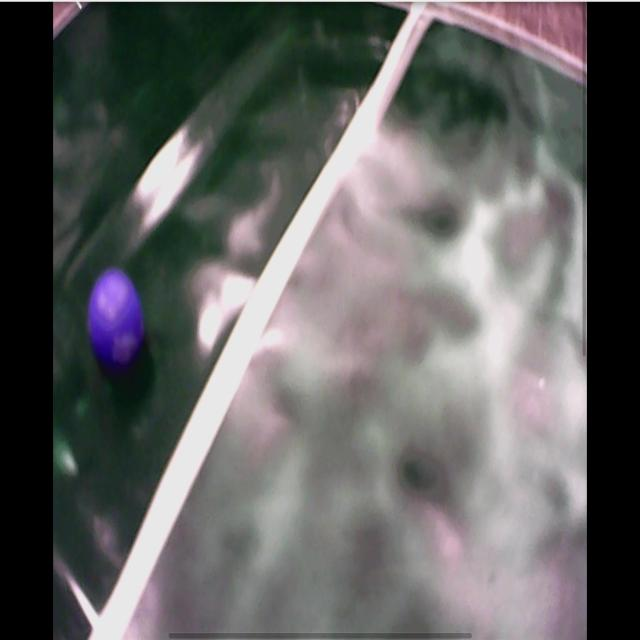ball: (86, 270, 143, 367)
